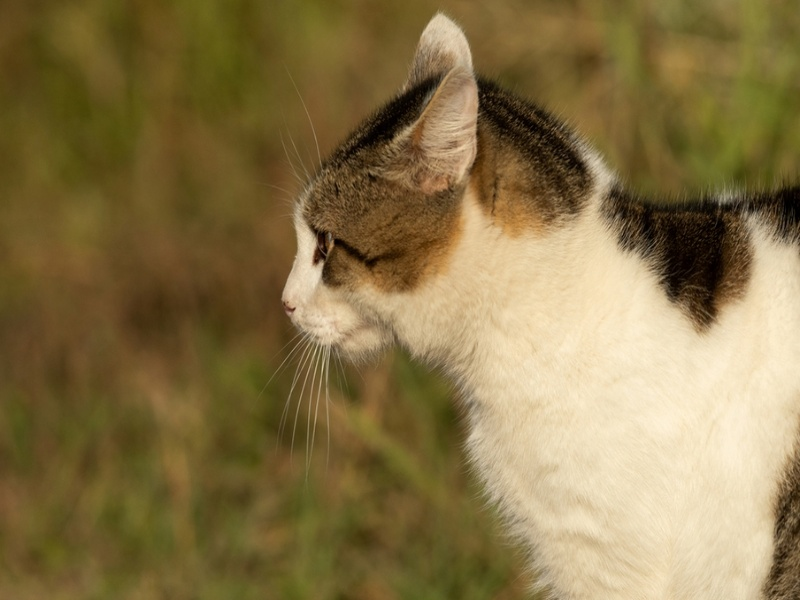cat: (274, 9, 794, 594)
